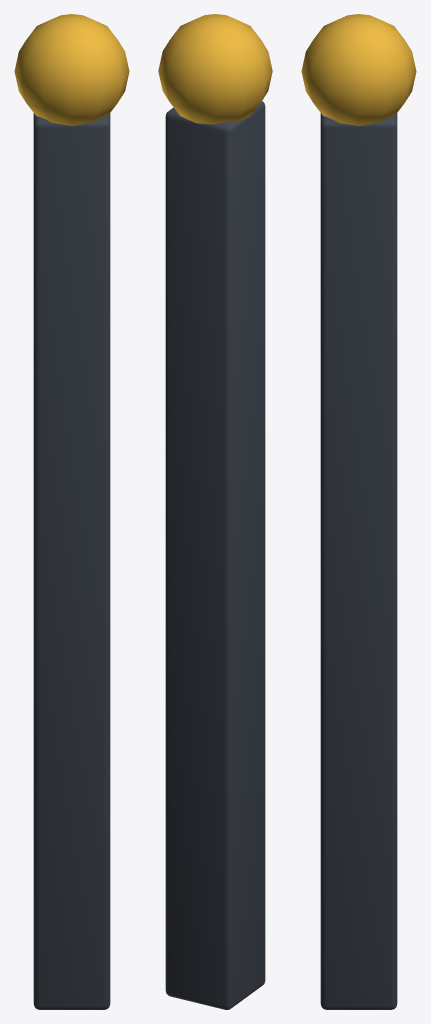
Rendered from cerca_metal_canto.glb.
3 renders of one model, left to right at view 1: azimuth 90°, elevation 25°; view 2: azimuth 150°, elevation 25°; view 3: azimuth 270°, elevation 25°, orthographic.
Visible parts, largest first — view 1: cerca_metal_canto; view 2: cerca_metal_canto; view 3: cerca_metal_canto.
Part boxes in pixels (bbox=[...]): cerca_metal_canto: bbox=[14, 14, 129, 1009]; cerca_metal_canto: bbox=[158, 14, 272, 1009]; cerca_metal_canto: bbox=[301, 14, 416, 1009].
Bounding box in the file's own units: 0.15 × 1.41 × 0.15.
Materials: 1 (1 with a texture image).
